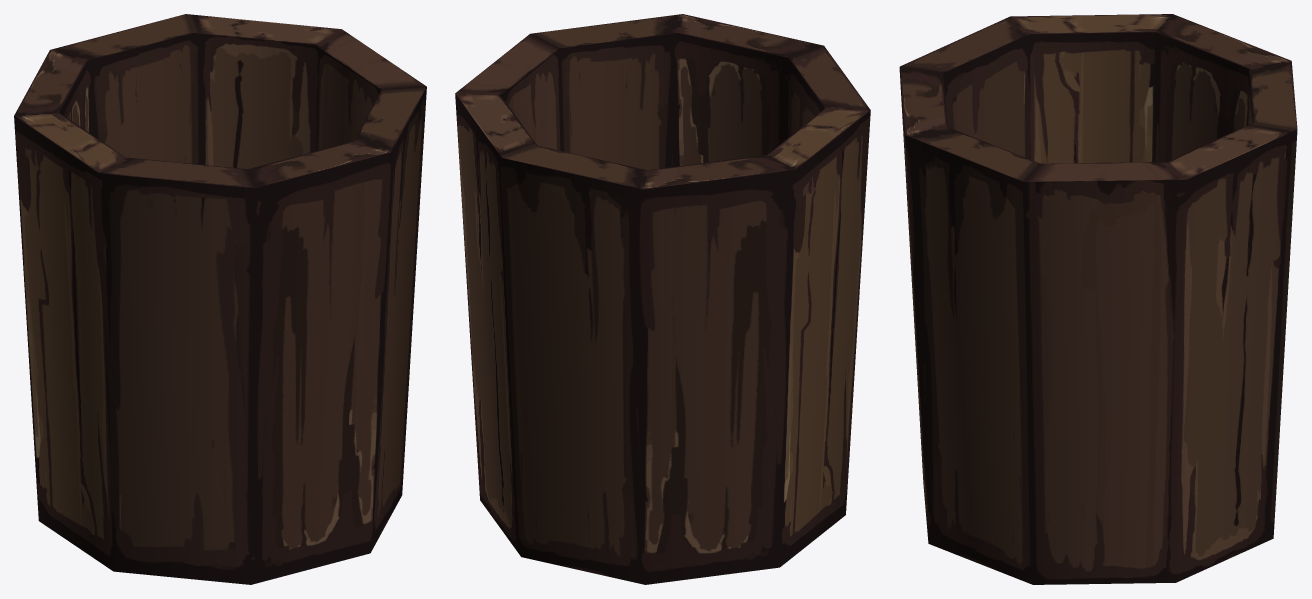
File: SM_PROP_cup_dungeon_01.fbx
3 views of the same model, side by side, from view 1: azimuth 30°, elevation 25°; view 2: azimuth 150°, elevation 25°; view 3: azimuth 270°, elevation 25° (orthographic).
Parts seen in each view (by area): view 1: SM_PROP_cup_dungeon_01; view 2: SM_PROP_cup_dungeon_01; view 3: SM_PROP_cup_dungeon_01.
Part boxes in pixels (left/top/right/bottom): SM_PROP_cup_dungeon_01: left=14, top=14, right=426, bottom=584; SM_PROP_cup_dungeon_01: left=455, top=14, right=870, bottom=584; SM_PROP_cup_dungeon_01: left=899, top=14, right=1297, bottom=584.
Bounding box in the file's own units: 11.32 × 12.95 × 11.32.
